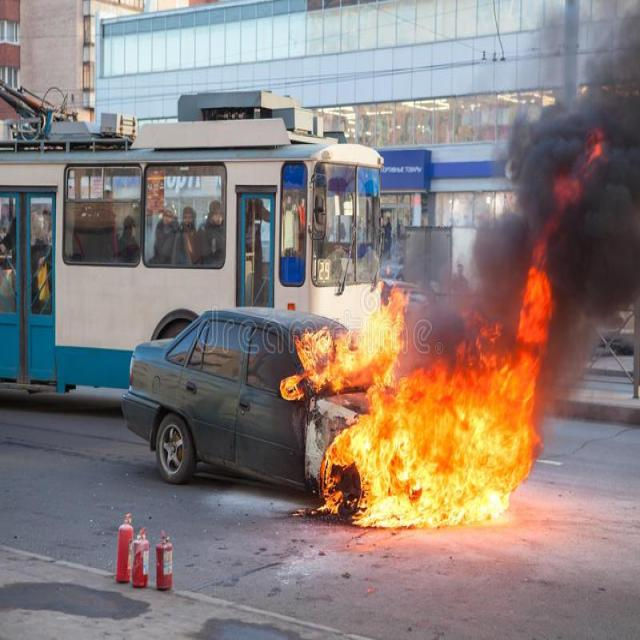fire_extinguisher: (112, 510, 134, 583), (128, 526, 149, 587), (154, 531, 172, 594)
